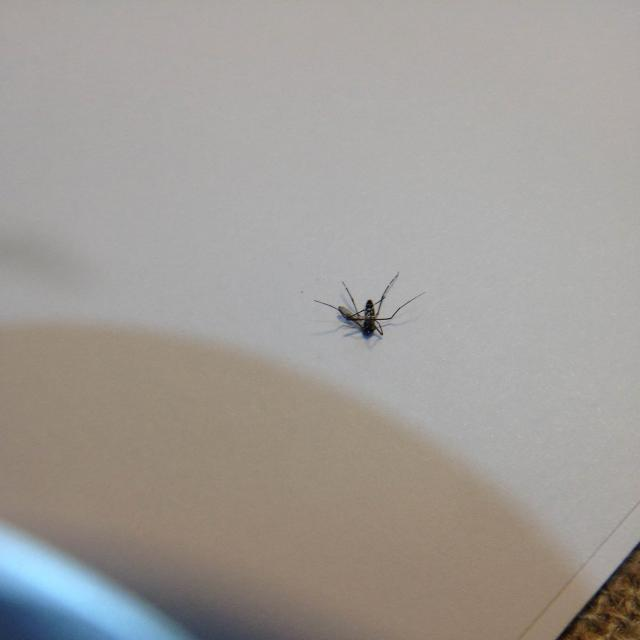albopictus: (305, 267, 428, 345)
